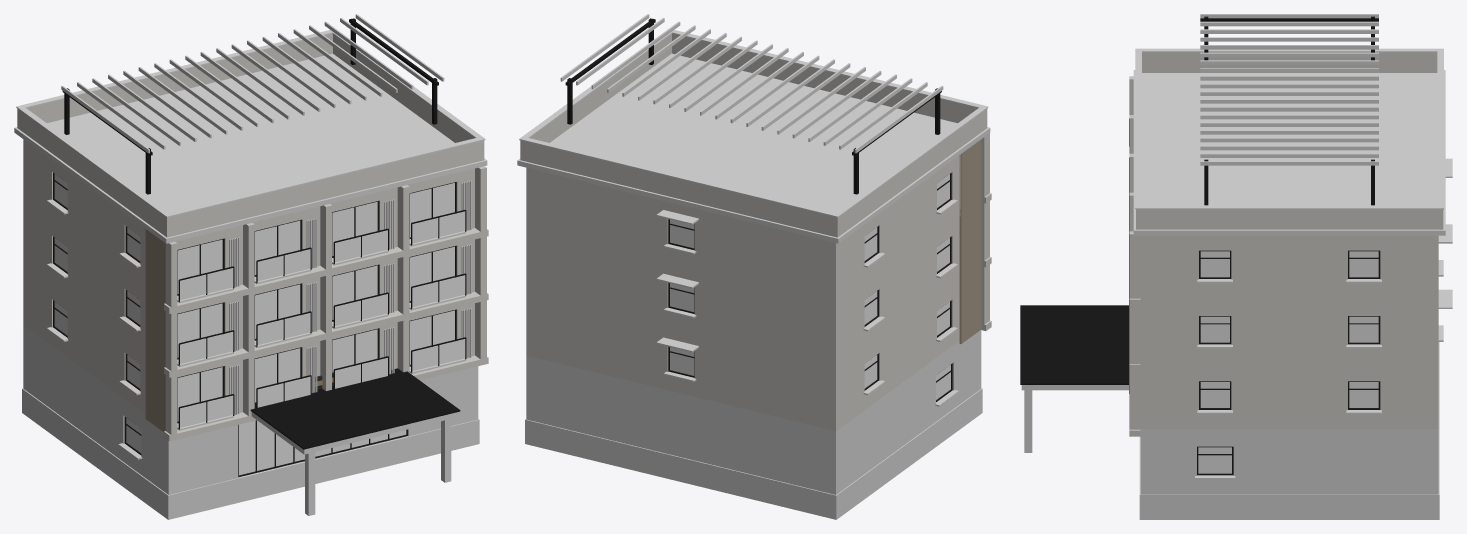
The model's file is hotel_16x13_4.glb.
The picture shows the model from 3 angles, left to right: view 1: azimuth 30°, elevation 25°; view 2: azimuth 150°, elevation 25°; view 3: azimuth 270°, elevation 25°; orthographic projection. The views are drawn at different scales.
Visible parts, largest first — view 1: hotel_16x13_4; view 2: hotel_16x13_4; view 3: hotel_16x13_4.
Part boxes in pixels (x1,y1,x2,y2): hotel_16x13_4: [14, 14, 488, 519]; hotel_16x13_4: [517, 14, 991, 519]; hotel_16x13_4: [1020, 14, 1452, 519].
Bounding box in the file's own units: 16.6 × 17.09 × 18.86.
